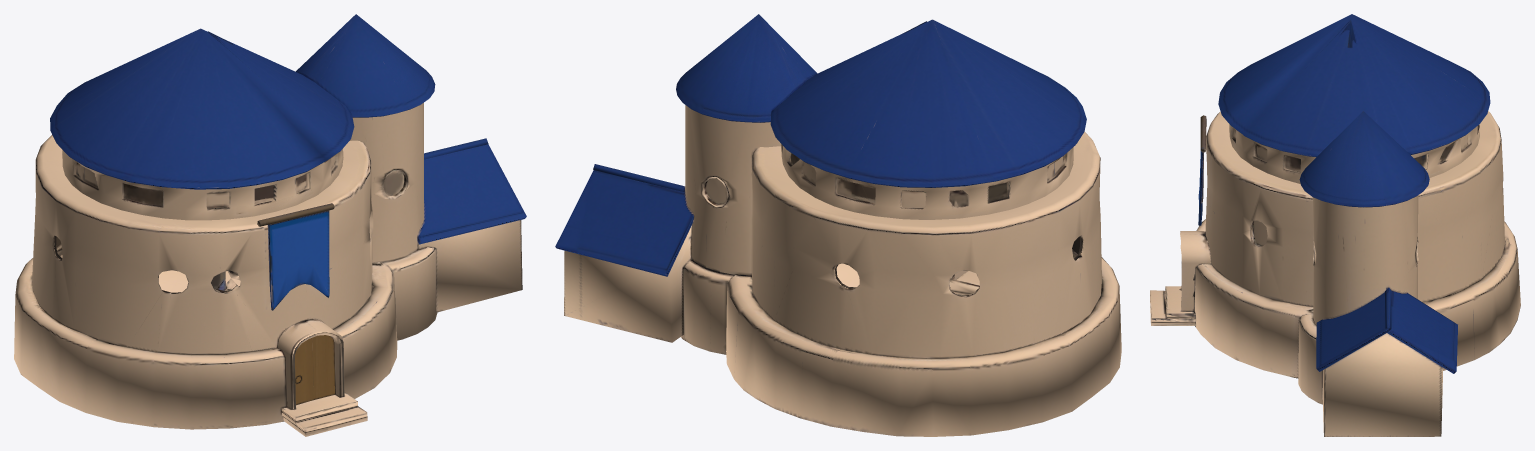
Rendered from meshy-c5-v1.glb.
The picture shows the model from 3 angles, left to right: view 1: azimuth 30°, elevation 25°; view 2: azimuth 150°, elevation 25°; view 3: azimuth 270°, elevation 25°; orthographic projection. The views are drawn at different scales.
Bounding box in the file's own units: 1 × 0.6843 × 0.7765.
1 material, 1 textured.
